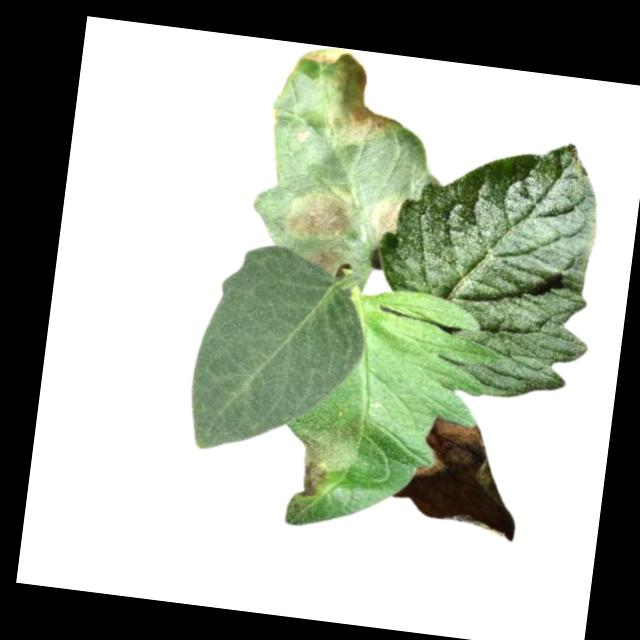Late_blight: (388, 414, 528, 541), (289, 43, 403, 154), (288, 409, 364, 508), (283, 177, 361, 248), (366, 189, 406, 244), (304, 244, 344, 279)
healthy: (364, 121, 614, 408), (183, 239, 384, 470)
